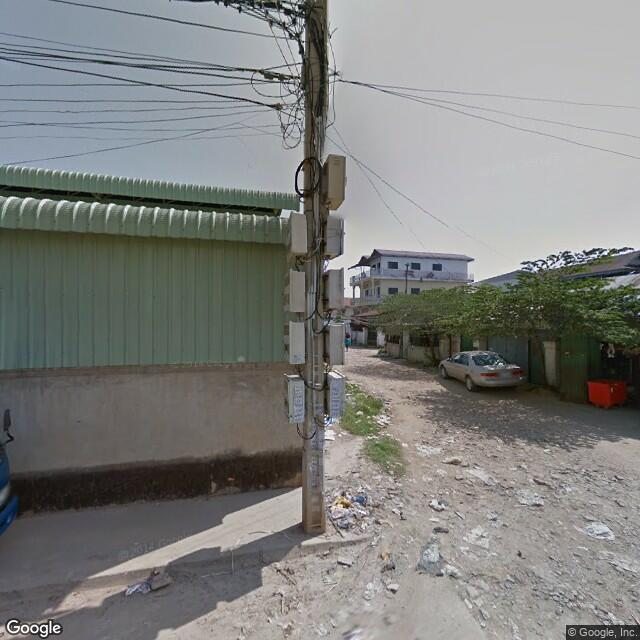litter: (329, 480, 379, 537), (120, 571, 180, 598), (576, 511, 616, 551), (468, 460, 503, 496), (409, 433, 444, 465), (472, 517, 497, 558), (516, 483, 549, 514), (383, 575, 415, 598), (330, 550, 356, 575), (368, 408, 396, 431), (428, 489, 446, 519), (326, 427, 338, 446)
